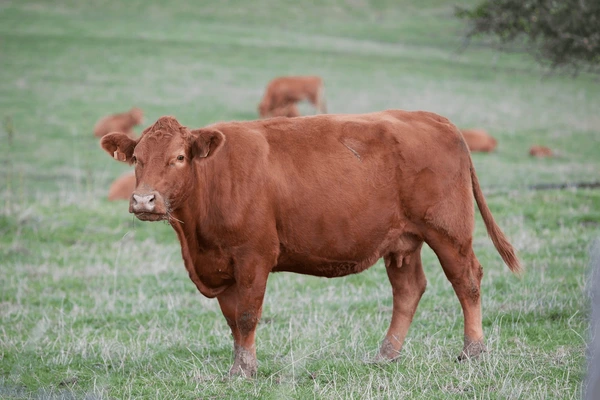cow: (108, 115, 524, 366)
